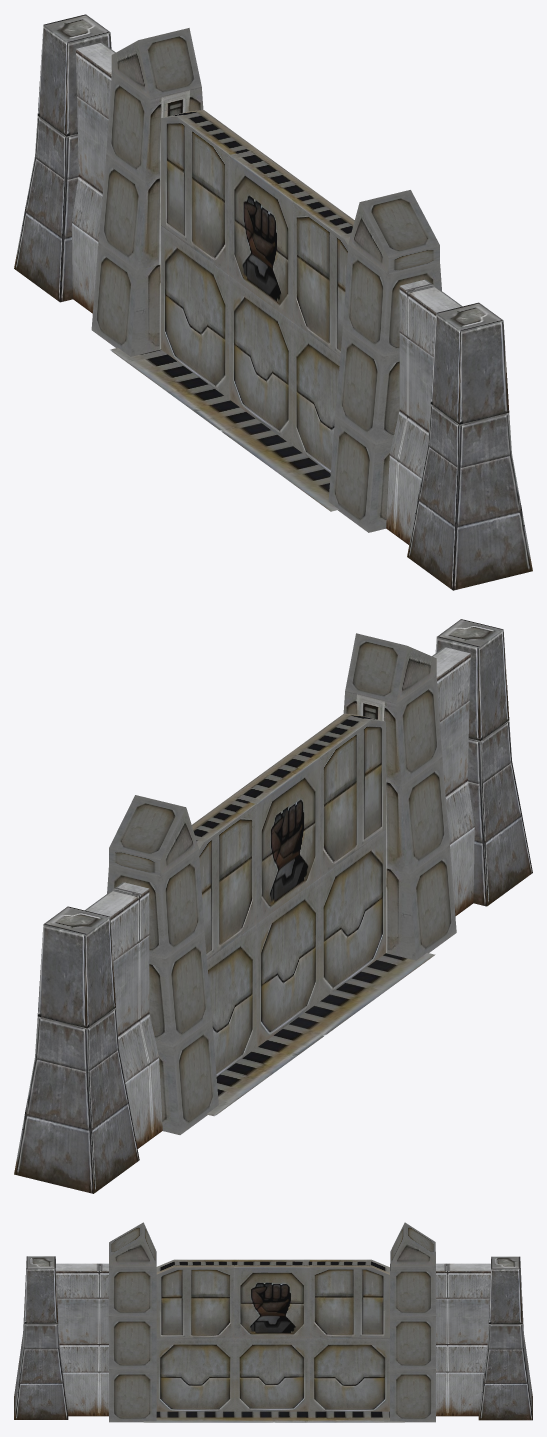
File: s_heavygate_hdtex.glb
The picture shows the model from 3 angles, top to bottom: view 1: azimuth 30°, elevation 25°; view 2: azimuth 150°, elevation 25°; view 3: azimuth 270°, elevation 25°; orthographic projection. The views are drawn at different scales.
Parts seen in each view (by area): view 1: S_HeavyGate, S_HeavyGateDoor; view 2: S_HeavyGate, S_HeavyGateDoor; view 3: S_HeavyGate, S_HeavyGateDoor.
Part boxes in pixels (box(x1,y1,x2,y2)): S_HeavyGate: box(14, 14, 532, 590); S_HeavyGateDoor: box(161, 110, 354, 473); S_HeavyGate: box(14, 619, 532, 1193); S_HeavyGateDoor: box(192, 713, 385, 1076); S_HeavyGate: box(14, 1222, 532, 1422); S_HeavyGateDoor: box(156, 1259, 390, 1411).
Bounding box in the file's own units: 7.85 × 21.91 × 57.21.
2 materials, 2 textured.
